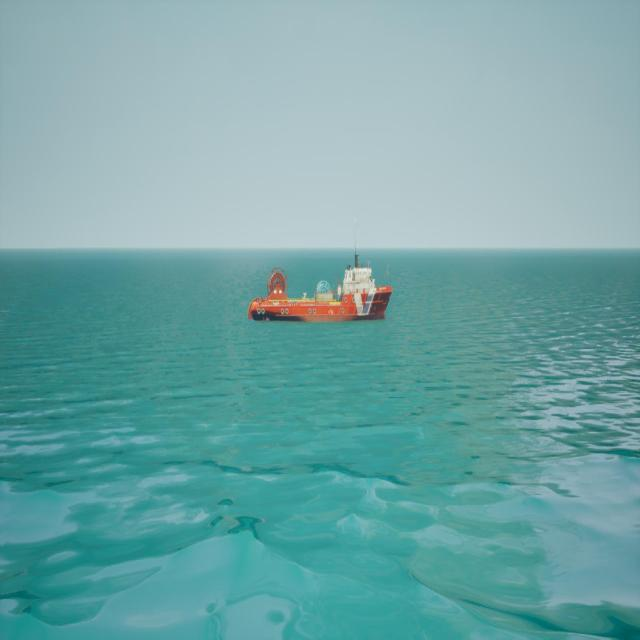tug boat: (249, 253, 395, 325)
